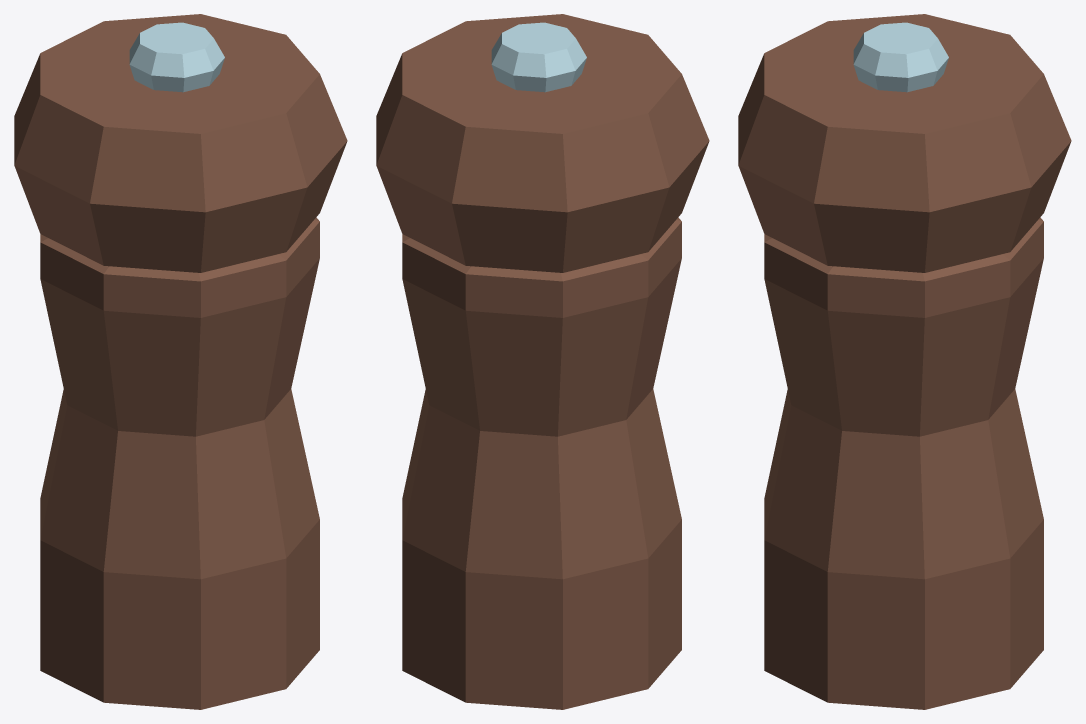
File: Peppermill.fbx
3 renders of one model, left to right at view 1: azimuth 30°, elevation 25°; view 2: azimuth 150°, elevation 25°; view 3: azimuth 270°, elevation 25°, orthographic.
Parts seen in each view (by area): view 1: Cylinder; view 2: Cylinder; view 3: Cylinder.
Part boxes in pixels (x1,y1,x2,y2): Cylinder: [14, 14, 347, 709]; Cylinder: [376, 14, 709, 709]; Cylinder: [738, 14, 1071, 709].
Size of the model in its own units: 4.69 by 9.36 by 4.62.
